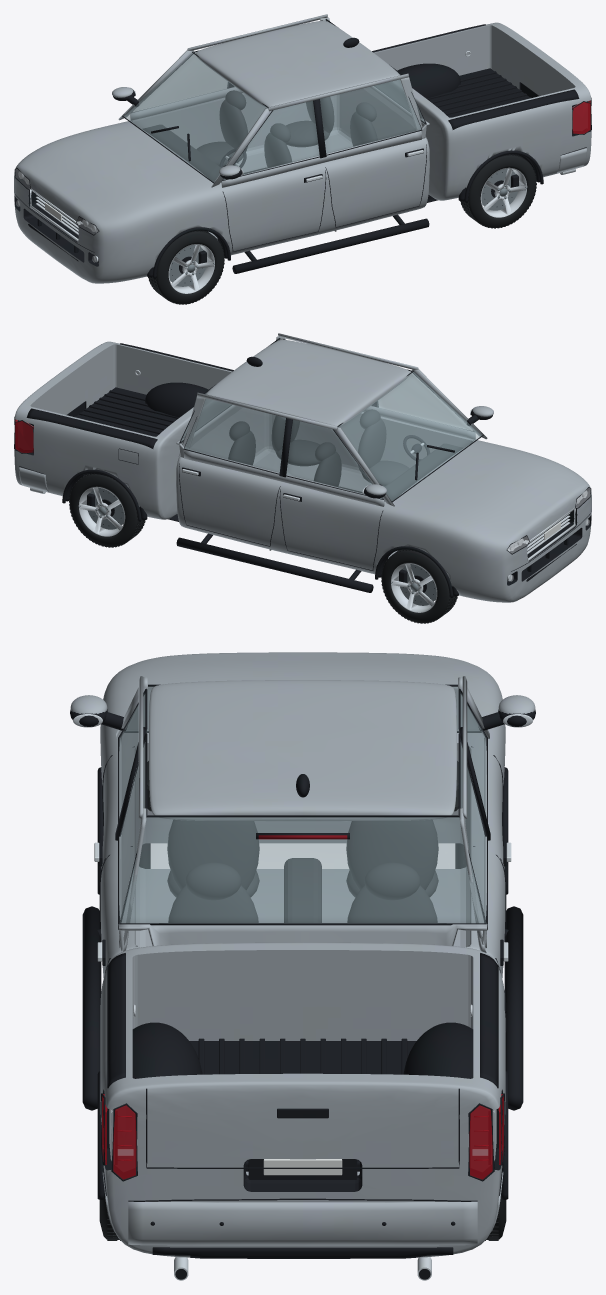
Rendered from pickup.glb.
3 views of the same model, one above another, from view 1: azimuth 30°, elevation 25°; view 2: azimuth 150°, elevation 25°; view 3: azimuth 270°, elevation 25° (orthographic). The views are drawn at different scales.
Visible parts, largest first — view 1: Separate 14-station pickup cab, Separate 14-station cargo bed, Crowned roof pressing, Pickup windshield, Pickup rear door glass, Pickup front door glass, Pickup front door glass.001, 107 reused Sculpted_tyre.002, 107 reused Sculpted_tyre, Crew cab step rail, Pickup continuous painted glazing sill, Cargo bed liner (+26 smaller); view 2: Separate 14-station pickup cab, Separate 14-station cargo bed, Crowned roof pressing, Pickup windshield, Pickup rear door glass.001, Pickup front door glass.001, Pickup front door glass, 107 reused Sculpted_tyre.003, 107 reused Sculpted_tyre.001, Crew cab step rail.001, Pickup continuous painted glazing sill.001, Cargo bed liner (+26 smaller); view 3: Separate 14-station cargo bed, Crowned roof pressing, Separate 14-station pickup cab, Pickup rear cab glass, Formed painted rear bumper cover, Continuous painted rear cab bulkhead, Cargo bed liner, Contoured seat back, Contoured seat back.001, Crew cab step rail, Crew cab step rail.001, Sculpted rear lower bumper insert (+21 smaller).
Part boxes in pixels (x1,y1,x2,y2): Separate 14-station pickup cab: [14, 88, 429, 283]; Separate 14-station cargo bed: [373, 22, 591, 200]; Crowned roof pressing: [195, 20, 399, 107]; Pickup windshield: [124, 53, 267, 181]; Pickup rear door glass: [320, 79, 421, 153]; Pickup front door glass: [223, 101, 319, 179]; Pickup front door glass.001: [132, 52, 228, 112]; 107 reused Sculpted_tyre.002: [461, 155, 536, 227]; 107 reused Sculpted_tyre: [149, 230, 224, 304]; Crew cab step rail: [232, 218, 429, 273]; Pickup continuous painted glazing sill: [221, 129, 421, 187]; Cargo bed liner: [428, 68, 529, 116]; Separate 14-station pickup cab: [176, 407, 591, 602]; Separate 14-station cargo bed: [14, 341, 232, 519]; Crowned roof pressing: [206, 339, 410, 426]; Pickup windshield: [338, 372, 481, 500]; Pickup rear door glass.001: [184, 398, 285, 472]; Pickup front door glass.001: [286, 420, 382, 498]; Pickup front door glass: [377, 371, 473, 431]; 107 reused Sculpted_tyre.003: [69, 474, 145, 547]; 107 reused Sculpted_tyre.001: [381, 549, 457, 623]; Crew cab step rail.001: [176, 537, 373, 592]; Pickup continuous painted glazing sill.001: [184, 448, 384, 506]; Cargo bed liner: [76, 387, 177, 435]; Separate 14-station cargo bed: [100, 942, 505, 1257]; Crowned roof pressing: [148, 680, 457, 821]; Separate 14-station pickup cab: [100, 652, 505, 977]; Pickup rear cab glass: [119, 817, 486, 923]; Formed painted rear bumper cover: [128, 1201, 477, 1245]; Continuous painted rear cab bulkhead: [119, 923, 486, 945]; Cargo bed liner: [189, 1041, 416, 1171]; Contoured seat back: [167, 819, 259, 889]; Contoured seat back.001: [346, 819, 438, 889]; Crew cab step rail: [82, 906, 101, 1110]; Crew cab step rail.001: [504, 906, 523, 1110]; Sculpted rear lower bumper insert: [152, 1247, 453, 1258].
Bounding box in the file's own units: 5.69 × 1.96 × 2.32.
10 materials, 10 textured.
